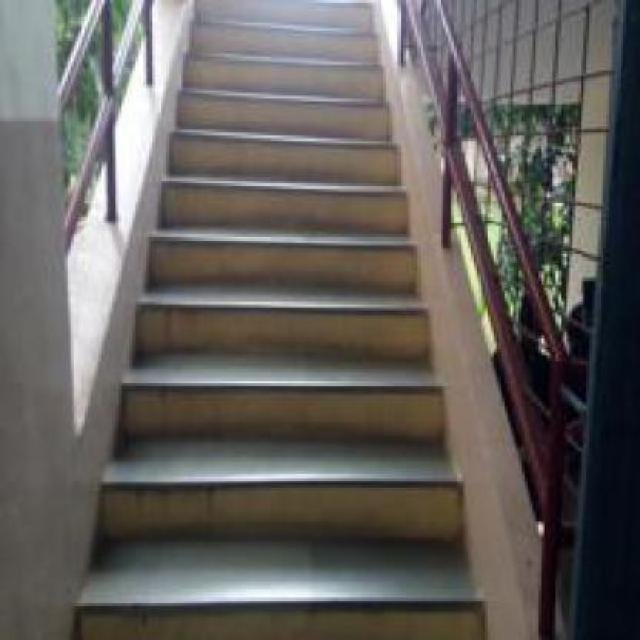stair: (80, 288, 480, 614)
